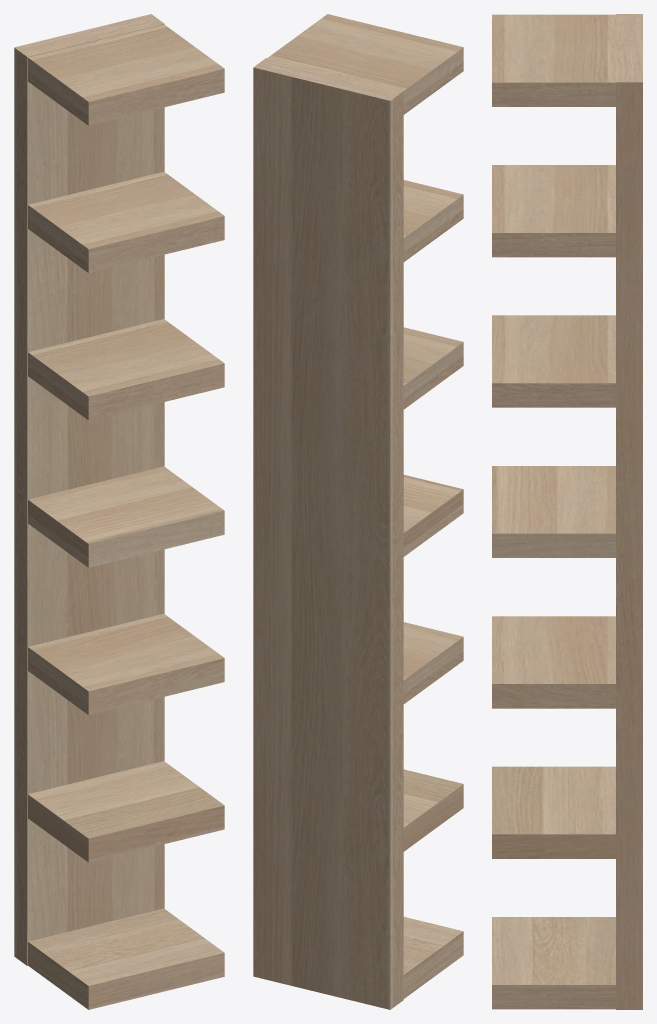
The model's file is 05 - LACK - 上牆式層架組, 染白橡木紋, 30x190 公分 IKEA 線上購物.glb.
3 renders of one model, left to right at view 1: azimuth 30°, elevation 25°; view 2: azimuth 150°, elevation 25°; view 3: azimuth 270°, elevation 25°, orthographic. The views are drawn at different scales.
Parts seen in each view (by area): view 1: Mesh_0; view 2: Mesh_0; view 3: Mesh_0.
Boxes of the visible parts, <box> form: Mesh_0: <box>14,14,224,1009</box>; Mesh_0: <box>253,14,463,1009</box>; Mesh_0: <box>492,14,642,1009</box>.
Bounding box in the file's own units: 0.3 × 1.9 × 0.28.
Materials: 1 (1 with a texture image).
